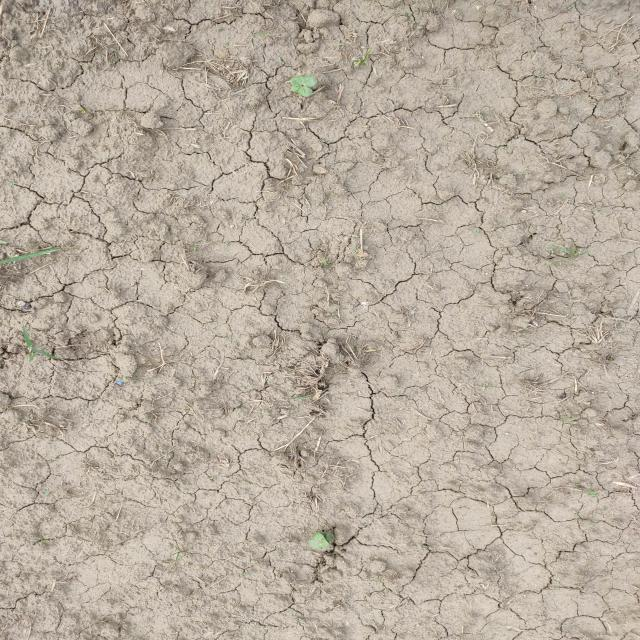seedling: (290, 75, 317, 87), (291, 85, 312, 97), (313, 532, 329, 545), (308, 540, 330, 549), (320, 532, 333, 545)
